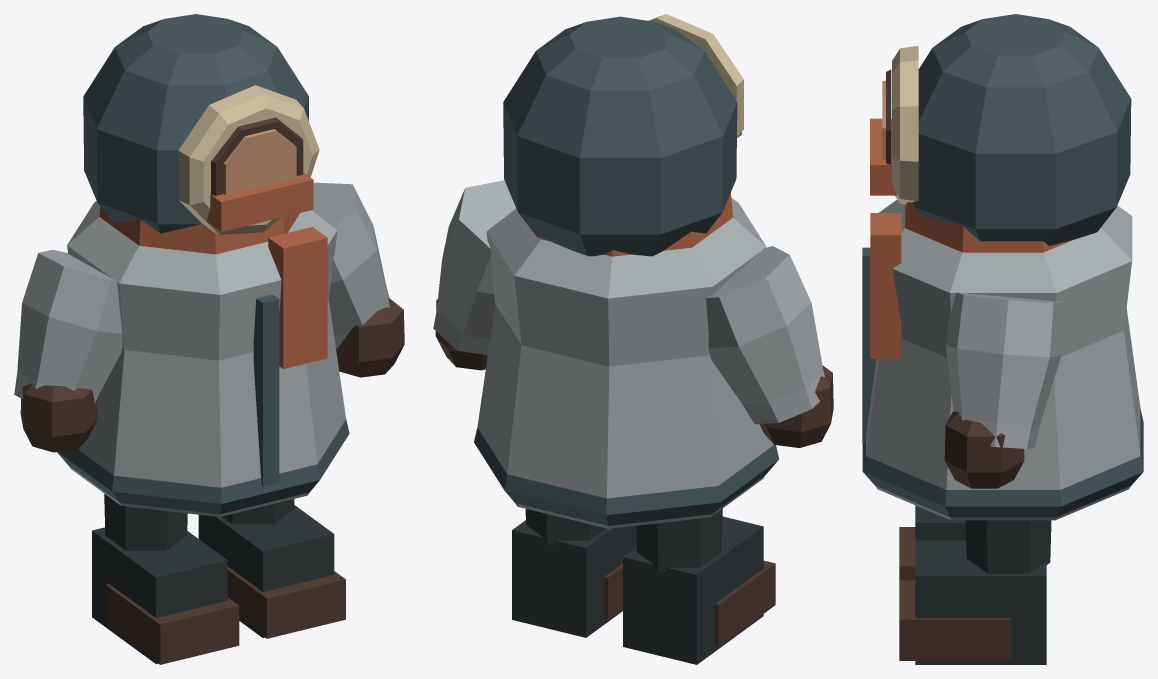
The model's file is Survact-colono-v01.glb.
3 renders of one model, left to right at view 1: azimuth 30°, elevation 25°; view 2: azimuth 150°, elevation 25°; view 3: azimuth 270°, elevation 25°, orthographic. The views are drawn at different scales.
Visible parts, largest first — view 1: Body; view 2: Body; view 3: Body.
Boxes of the visible parts, x1=… form: Body: x1=14, y1=14, x2=404, y2=664; Body: x1=433, y1=14, x2=833, y2=664; Body: x1=862, y1=14, x2=1143, y2=664.
Size of the model in its own units: 0.4975 by 0.726 by 0.3165.
